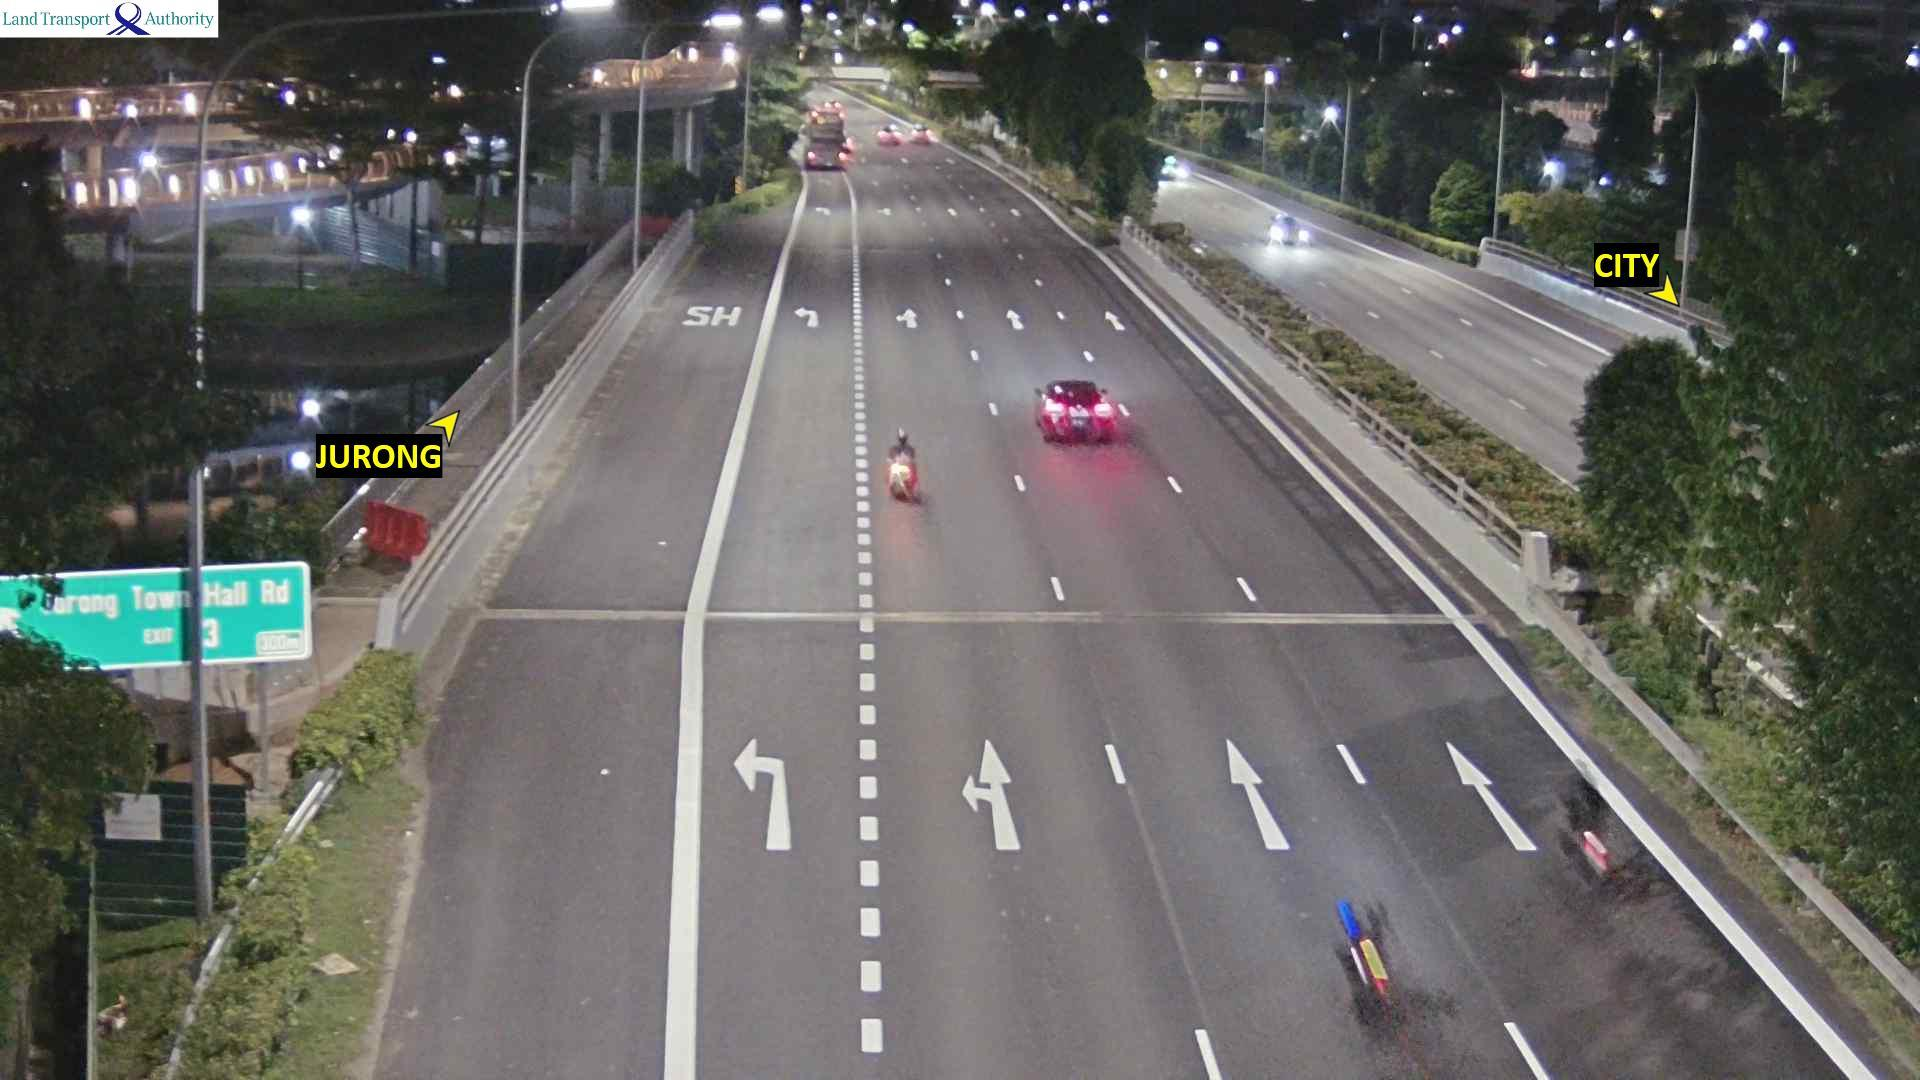bus: (803, 105, 848, 170)
cars: (1033, 377, 1117, 444), (1269, 211, 1309, 247), (1158, 154, 1189, 181), (876, 124, 902, 145), (909, 123, 934, 142)
motorcycle: (1528, 738, 1631, 922), (1319, 891, 1410, 1027), (885, 447, 920, 502)
